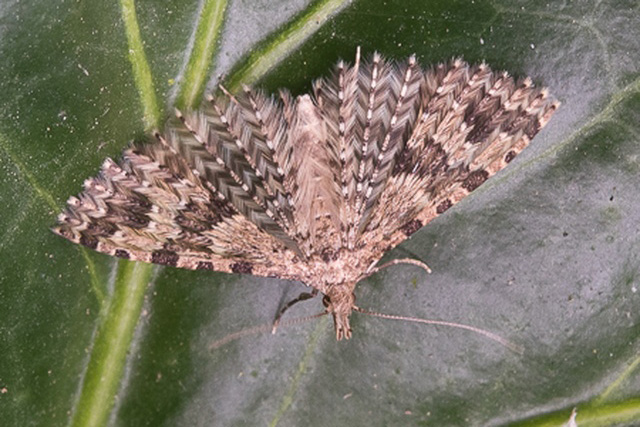Alucitidae: (50, 34, 555, 356)
moth: (52, 36, 557, 358)
